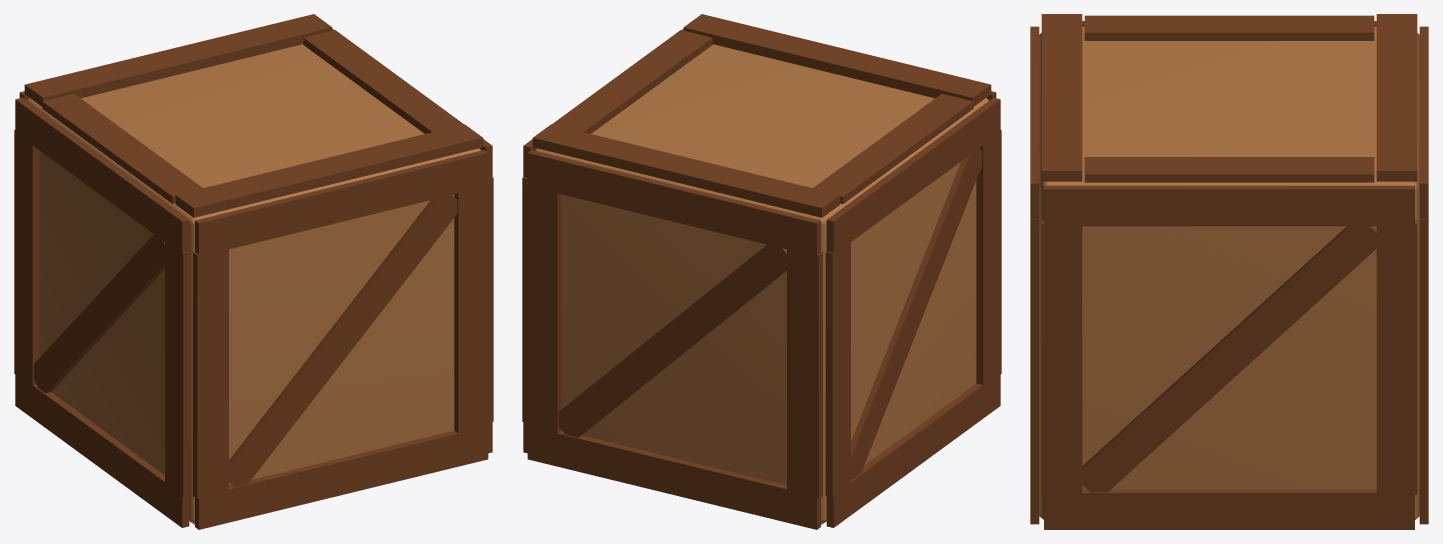
Rendered from mint-prop2.glb.
The picture shows the model from 3 angles, left to right: view 1: azimuth 30°, elevation 25°; view 2: azimuth 150°, elevation 25°; view 3: azimuth 270°, elevation 25°; orthographic projection. The views are drawn at different scales.
Parts seen in each view (by area): view 1: mint-prop2; view 2: mint-prop2; view 3: mint-prop2.
Boxes of the visible parts, bbox=[...] form: mint-prop2: bbox=[14, 14, 493, 529]; mint-prop2: bbox=[522, 14, 1001, 529]; mint-prop2: bbox=[1030, 14, 1428, 529].
Size of the model in its own units: 0.88 by 0.866 by 0.88.
